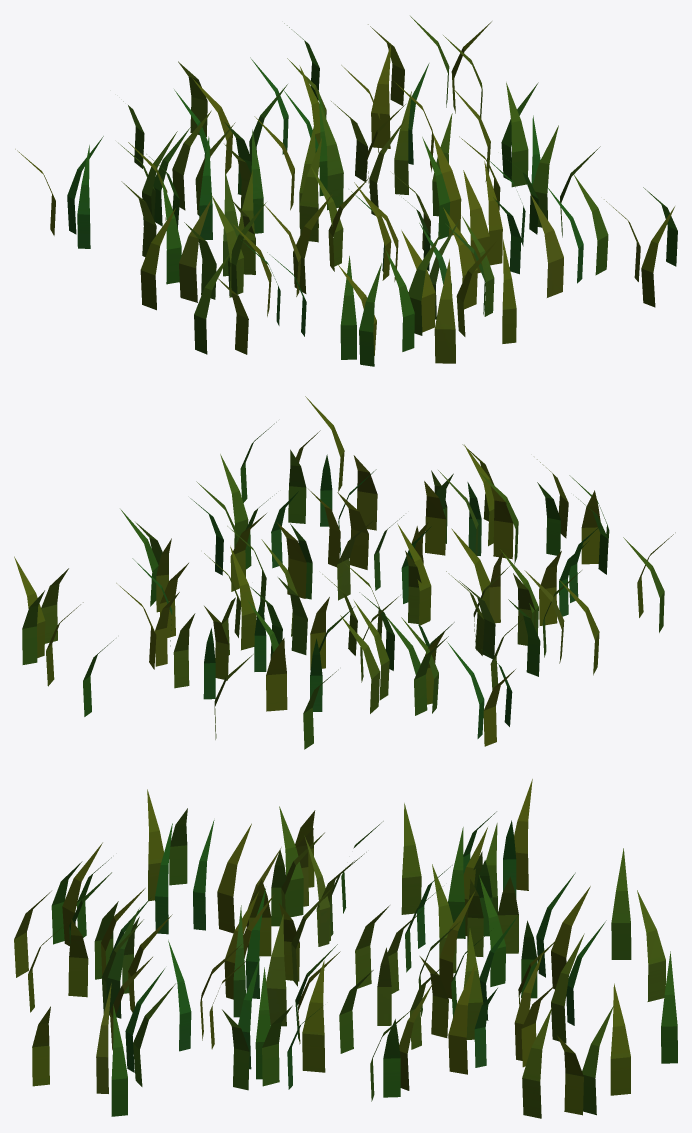
File: tallgrass_med.fbx
The picture shows the model from 3 angles, top to bottom: view 1: azimuth 30°, elevation 25°; view 2: azimuth 150°, elevation 25°; view 3: azimuth 270°, elevation 25°; orthographic projection. The views are drawn at different scales.
Parts seen in each view (by area): view 1: grass_1_0_1; view 2: grass_1_0_1; view 3: grass_1_0_1.
Boxes of the visible parts, x1=… form: grass_1_0_1: x1=15, y1=16, x2=677, y2=366; grass_1_0_1: x1=14, y1=396, x2=675, y2=749; grass_1_0_1: x1=14, y1=779, x2=677, y2=1118.
Size of the model in its own units: 1226 by 214 by 1341.
